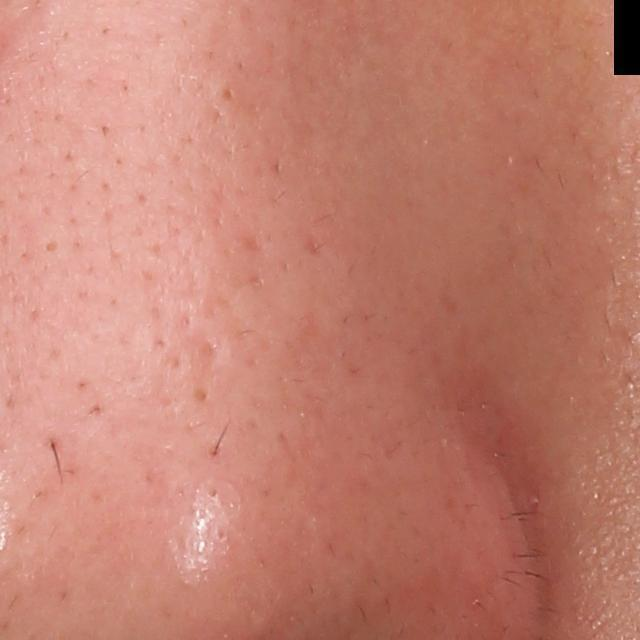comedo: (188, 381, 215, 410), (38, 233, 63, 260), (215, 82, 243, 105)
